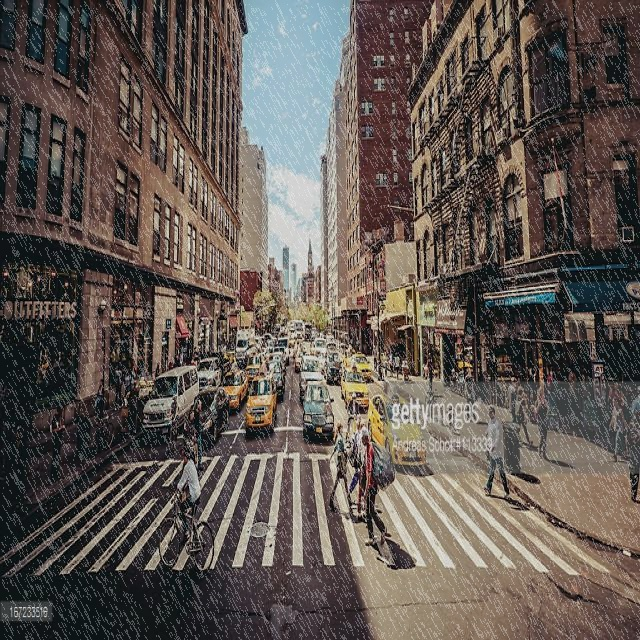pessoa: (358, 422, 396, 548), (0, 390, 34, 516), (170, 444, 202, 548), (481, 404, 511, 501), (326, 419, 356, 512), (353, 418, 370, 520), (624, 406, 640, 504), (513, 383, 534, 451), (532, 383, 550, 461), (50, 402, 66, 487), (608, 394, 628, 462), (112, 362, 136, 412), (370, 342, 400, 382), (348, 414, 362, 496), (166, 344, 203, 374), (566, 362, 582, 429), (183, 408, 198, 471), (522, 363, 556, 389), (603, 381, 629, 414), (344, 392, 360, 444), (166, 390, 180, 446), (464, 366, 477, 424), (193, 397, 203, 470), (514, 371, 526, 423), (606, 377, 624, 410), (94, 378, 105, 426), (506, 376, 517, 424), (423, 352, 435, 394), (630, 384, 640, 421), (262, 344, 272, 362), (154, 360, 162, 380), (455, 342, 464, 359)
